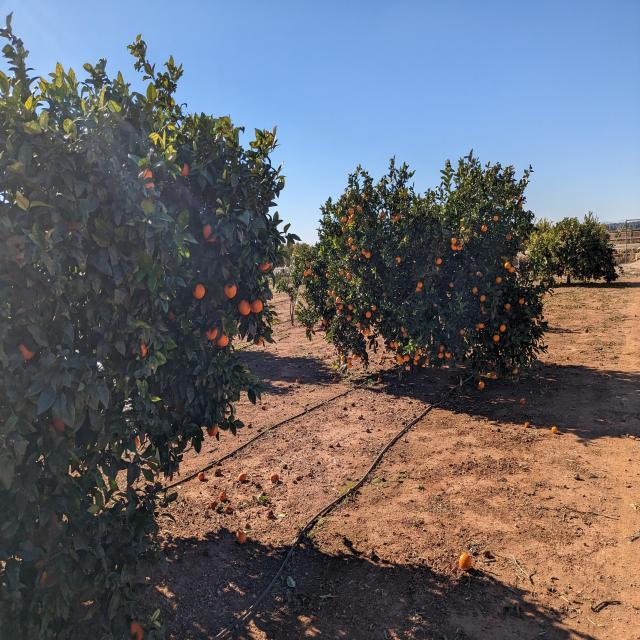Jeruk Sudah Matang: (19, 344, 35, 360), (202, 224, 216, 242), (131, 622, 142, 640), (224, 283, 237, 298), (133, 344, 148, 357), (238, 300, 250, 316), (138, 168, 153, 180), (251, 300, 265, 312), (52, 418, 64, 432), (206, 424, 218, 437), (193, 284, 204, 298), (144, 183, 154, 196), (218, 335, 229, 346), (208, 330, 219, 340), (181, 163, 189, 176), (260, 262, 270, 271), (255, 336, 263, 346), (492, 334, 500, 342), (478, 382, 486, 390), (480, 223, 488, 231), (512, 368, 520, 376), (498, 324, 506, 332), (169, 312, 176, 321), (400, 332, 408, 338), (504, 233, 512, 239), (404, 354, 410, 362), (396, 353, 402, 361), (436, 258, 442, 265), (480, 295, 486, 302), (472, 287, 478, 294), (508, 267, 515, 273), (134, 437, 138, 447), (336, 296, 341, 304), (417, 282, 423, 288), (496, 278, 502, 284), (504, 262, 510, 268), (346, 273, 352, 279), (438, 352, 444, 358), (424, 358, 430, 364), (414, 354, 420, 360), (460, 329, 465, 336), (366, 311, 371, 318), (366, 328, 371, 335), (479, 322, 484, 328), (401, 326, 406, 332), (518, 299, 524, 304), (339, 270, 344, 276), (348, 208, 354, 213), (362, 194, 368, 199), (380, 212, 386, 217), (338, 304, 343, 310), (348, 304, 353, 310), (457, 244, 462, 250), (394, 341, 399, 347), (413, 360, 418, 366), (398, 359, 404, 364), (390, 342, 395, 348), (353, 354, 358, 360), (351, 245, 356, 250), (342, 216, 347, 221), (416, 287, 421, 292), (482, 309, 487, 314), (366, 252, 370, 258), (349, 217, 353, 223), (349, 237, 353, 243), (397, 257, 401, 263), (452, 244, 456, 250), (450, 282, 454, 288), (304, 270, 308, 276), (308, 268, 312, 274), (362, 248, 366, 254), (372, 305, 376, 311), (452, 238, 456, 244), (506, 304, 510, 310), (440, 345, 444, 351), (446, 352, 450, 358), (346, 316, 352, 320), (362, 330, 366, 336), (326, 273, 330, 278), (357, 206, 362, 210), (382, 292, 386, 297), (336, 310, 341, 314), (358, 354, 363, 358), (348, 358, 352, 363), (341, 356, 345, 361), (348, 363, 352, 368), (323, 319, 327, 324), (332, 290, 335, 296), (328, 290, 331, 296), (476, 326, 479, 332), (418, 348, 421, 354), (441, 364, 444, 370), (306, 262, 310, 266), (350, 214, 354, 218), (402, 358, 406, 362), (328, 320, 332, 324), (357, 322, 360, 327), (323, 325, 326, 330), (396, 216, 398, 222), (398, 214, 401, 218), (403, 192, 406, 196), (460, 241, 462, 246), (310, 327, 313, 330), (392, 216, 394, 218)
